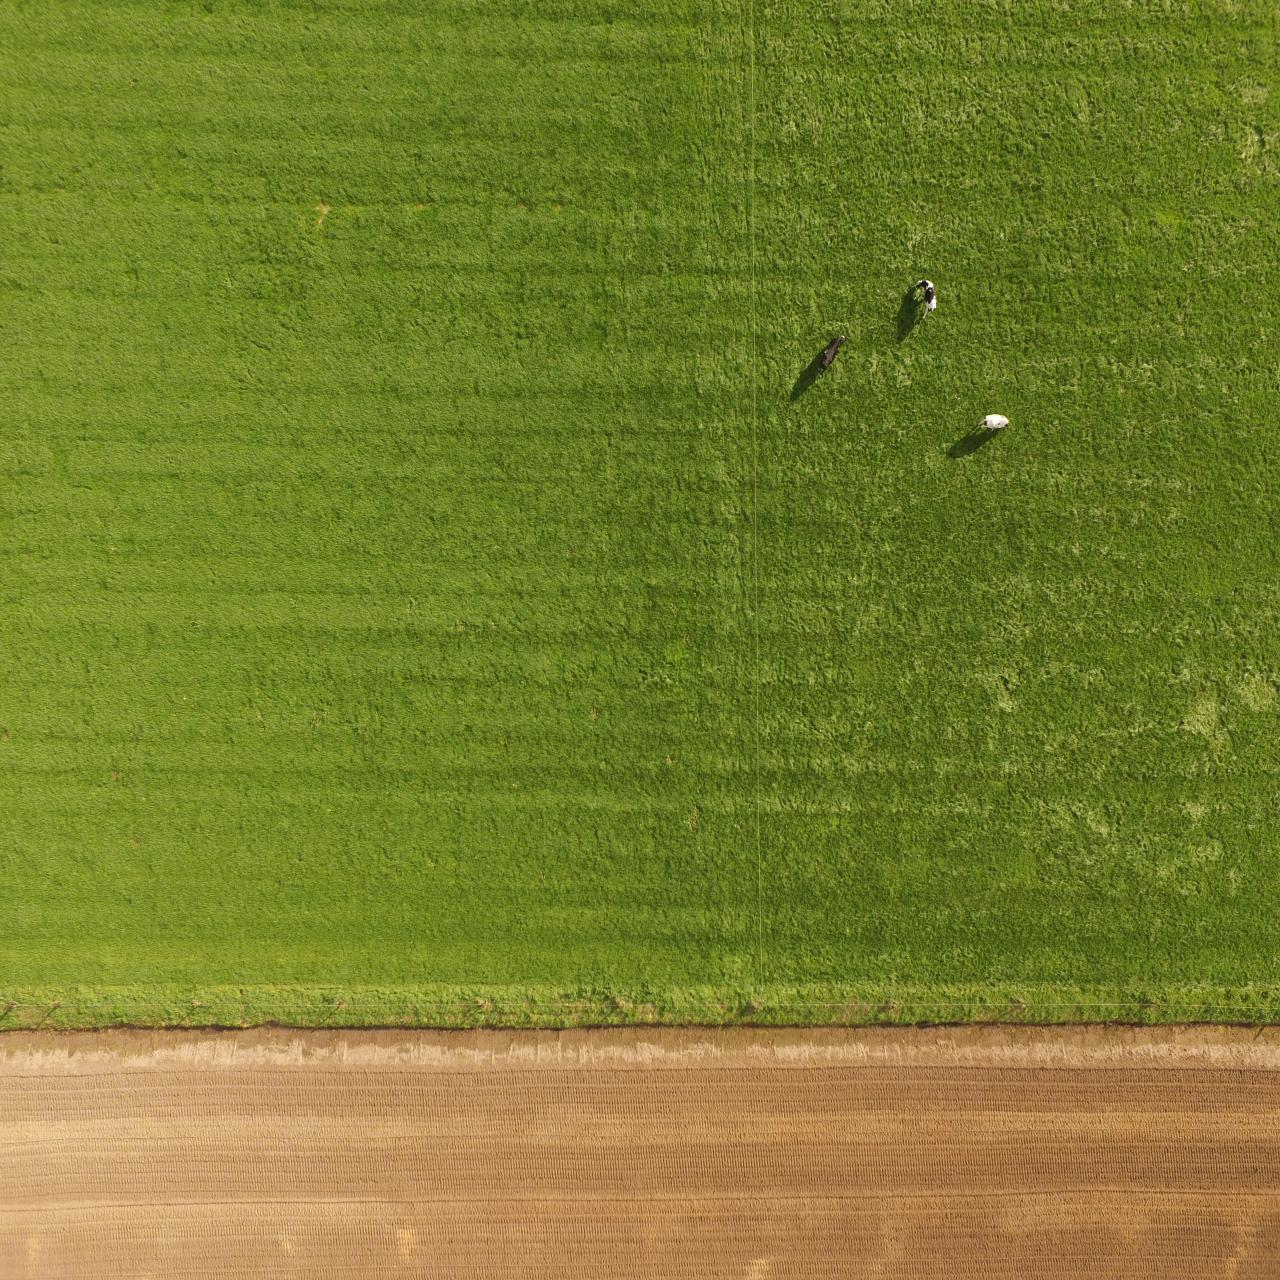cow: (813, 331, 847, 379), (913, 277, 938, 320), (974, 411, 1009, 433)
